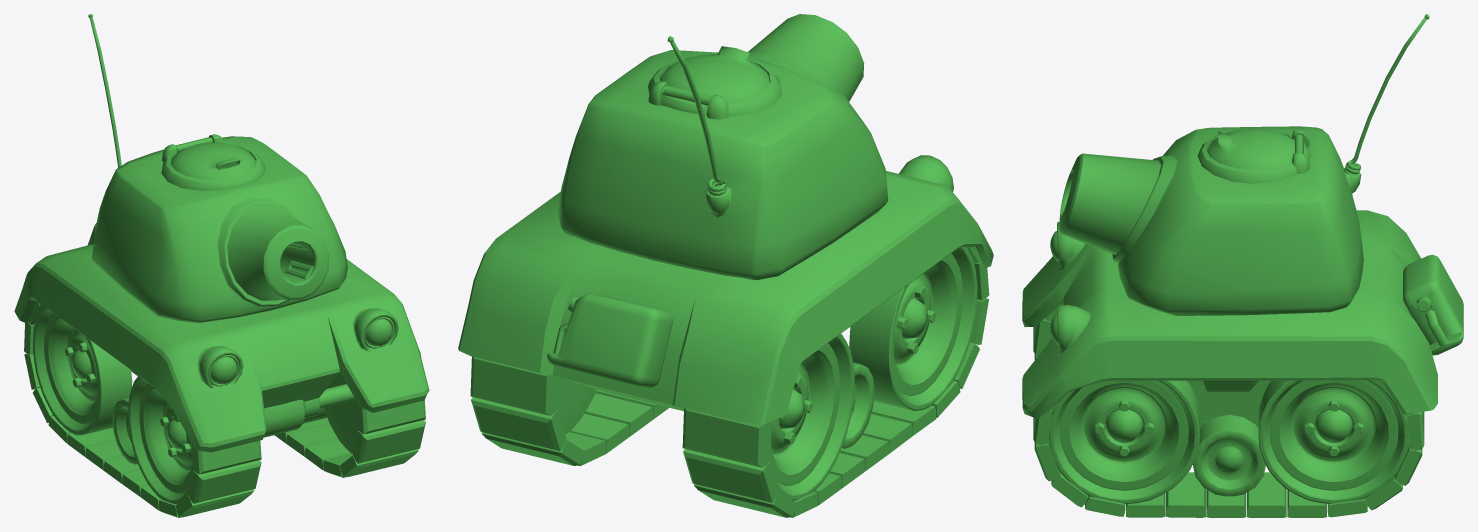
The model's file is Tank_m.fbx.
The picture shows the model from 3 angles, left to right: view 1: azimuth 30°, elevation 25°; view 2: azimuth 150°, elevation 25°; view 3: azimuth 270°, elevation 25°; orthographic projection. The views are drawn at different scales.
Parts seen in each view (by area): view 1: TankChassis; view 2: TankChassis; view 3: TankChassis.
Part boxes in pixels (bbox=[...]): TankChassis: bbox=[14, 14, 429, 517]; TankChassis: bbox=[458, 14, 993, 517]; TankChassis: bbox=[1022, 14, 1463, 517].
Bounding box in the file's own units: 170 × 249 × 237.
